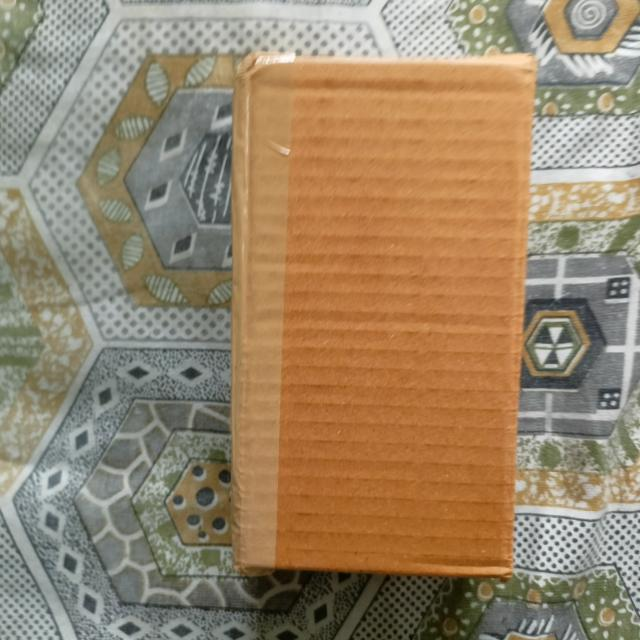box: (231, 55, 539, 584)
